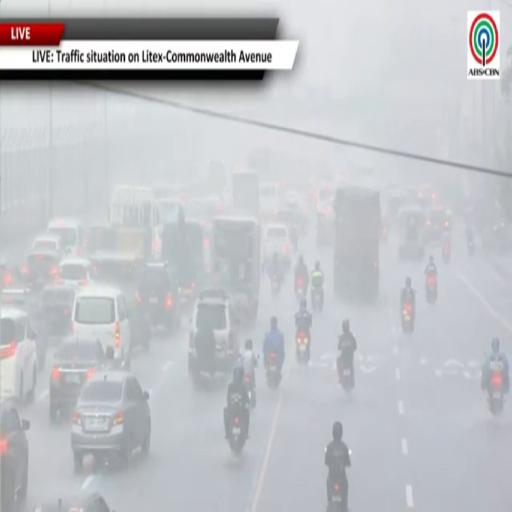car: (71, 372, 151, 471), (49, 339, 105, 422), (72, 285, 131, 361), (189, 291, 239, 377), (0, 288, 47, 371), (0, 308, 37, 402), (0, 405, 29, 511), (137, 263, 181, 330), (38, 284, 77, 345), (21, 249, 61, 291), (34, 492, 114, 511), (47, 218, 85, 255), (262, 224, 291, 268), (424, 205, 451, 244), (276, 207, 301, 249), (84, 222, 116, 253), (283, 197, 308, 236), (58, 258, 94, 285), (0, 261, 23, 289), (32, 233, 64, 253)
motorcycle: (229, 413, 246, 455), (488, 371, 504, 415), (327, 478, 348, 511), (328, 479, 347, 511), (337, 357, 354, 392), (266, 352, 281, 389), (296, 331, 309, 363), (244, 374, 255, 408), (402, 301, 413, 333), (426, 274, 437, 304), (312, 286, 323, 312), (295, 278, 305, 301), (271, 276, 281, 296), (442, 243, 450, 263), (468, 238, 475, 254), (381, 226, 387, 243)
truck: (333, 185, 380, 300), (210, 215, 260, 323), (232, 171, 260, 218)
